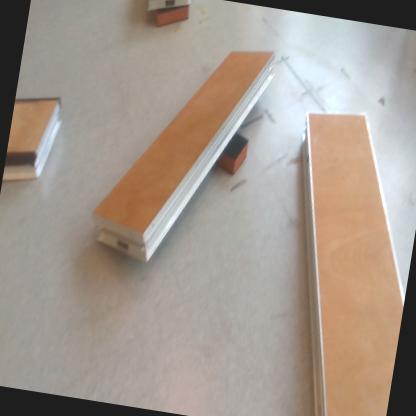Stairs: (91, 44, 278, 268), (302, 111, 405, 416), (3, 99, 63, 183), (147, 1, 190, 10)
